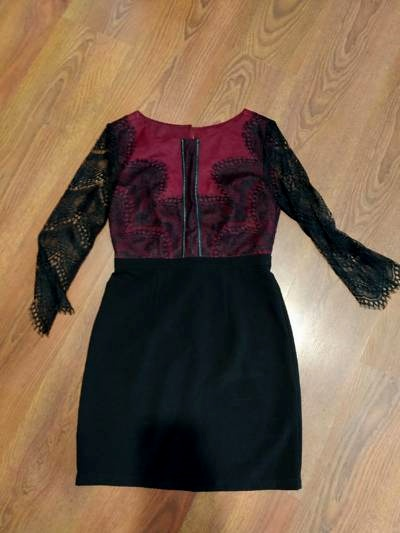Dress: (13, 91, 390, 507)
